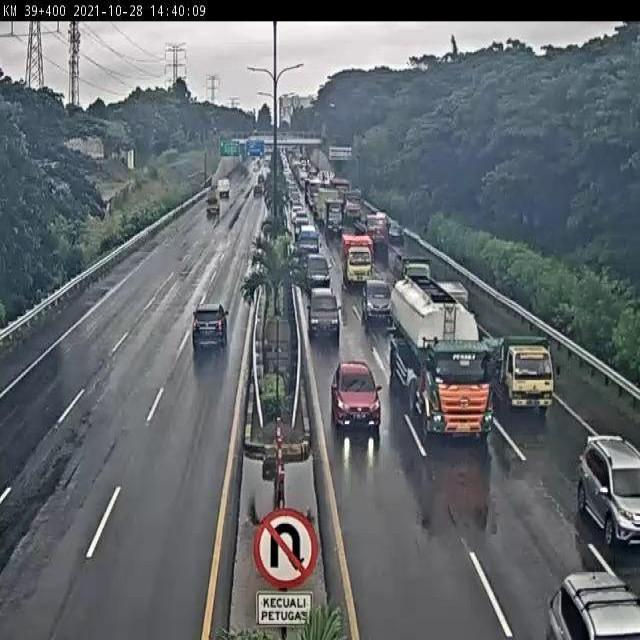car: (331, 360, 384, 431), (358, 279, 394, 328), (307, 288, 342, 337), (197, 290, 233, 330), (304, 253, 333, 292)
truck-m-: (486, 336, 558, 412), (389, 244, 432, 288), (342, 236, 375, 289)
truck-xl-: (392, 285, 501, 447)
